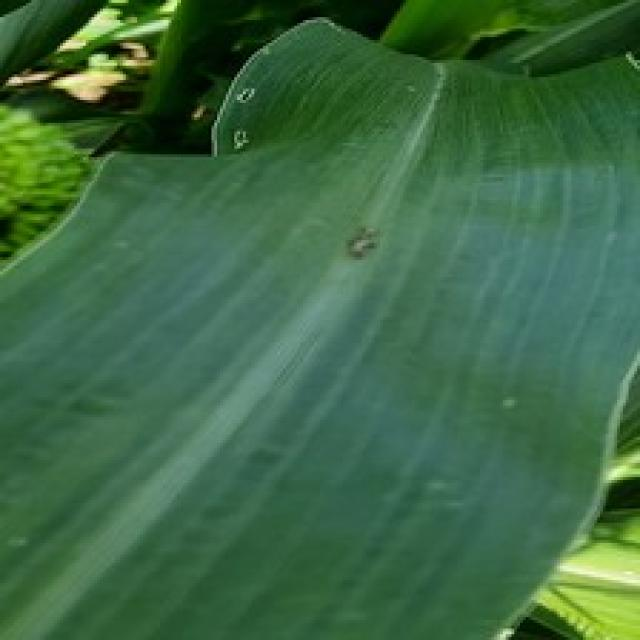Corn: (0, 12, 637, 637)
